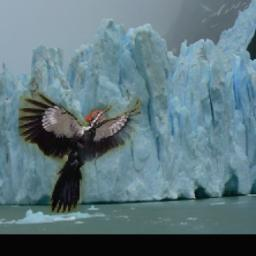Woodpecker: (18, 93, 141, 214)
